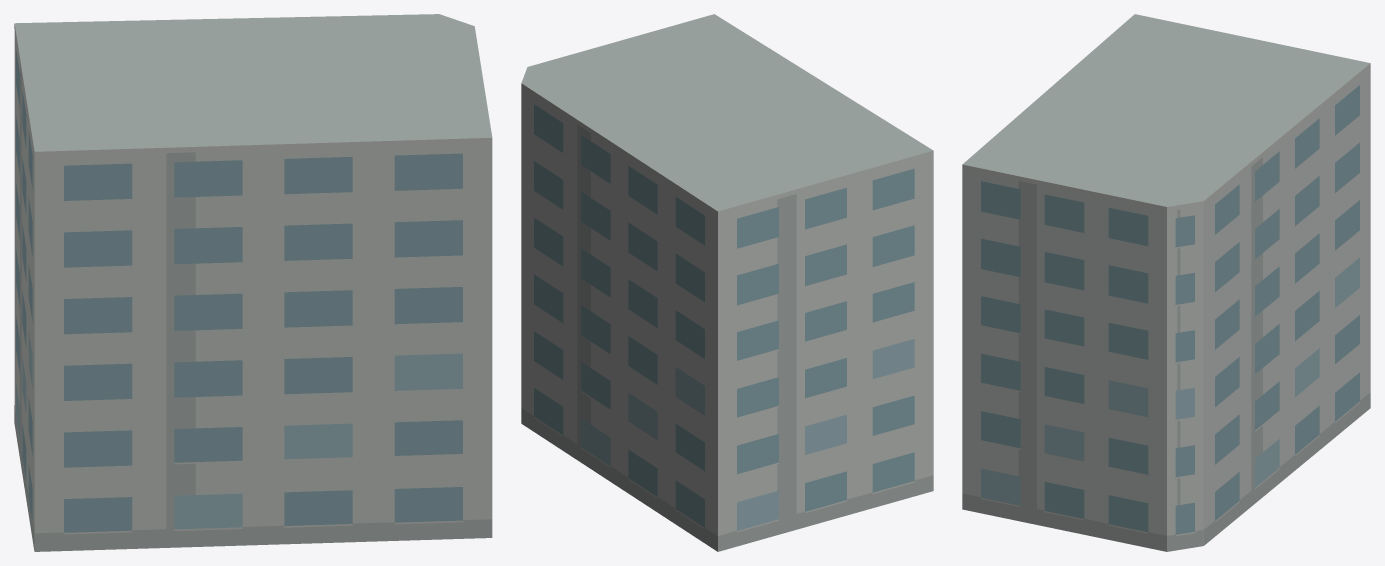
The model's file is survey-upis-32973481.glb.
3 views of the same model, side by side, from view 1: azimuth 30°, elevation 25°; view 2: azimuth 150°, elevation 25°; view 3: azimuth 270°, elevation 25° (orthographic). The views are drawn at different scales.
Parts seen in each view (by area): view 1: survey-upis-32973481.tmp; view 2: survey-upis-32973481.tmp; view 3: survey-upis-32973481.tmp.
Part boxes in pixels (x1,y1,x2,y2): survey-upis-32973481.tmp: (14,14,492,551); survey-upis-32973481.tmp: (521,14,933,551); survey-upis-32973481.tmp: (962,14,1370,551).
Size of the model in its own units: 21.55 by 17.95 by 19.27.
